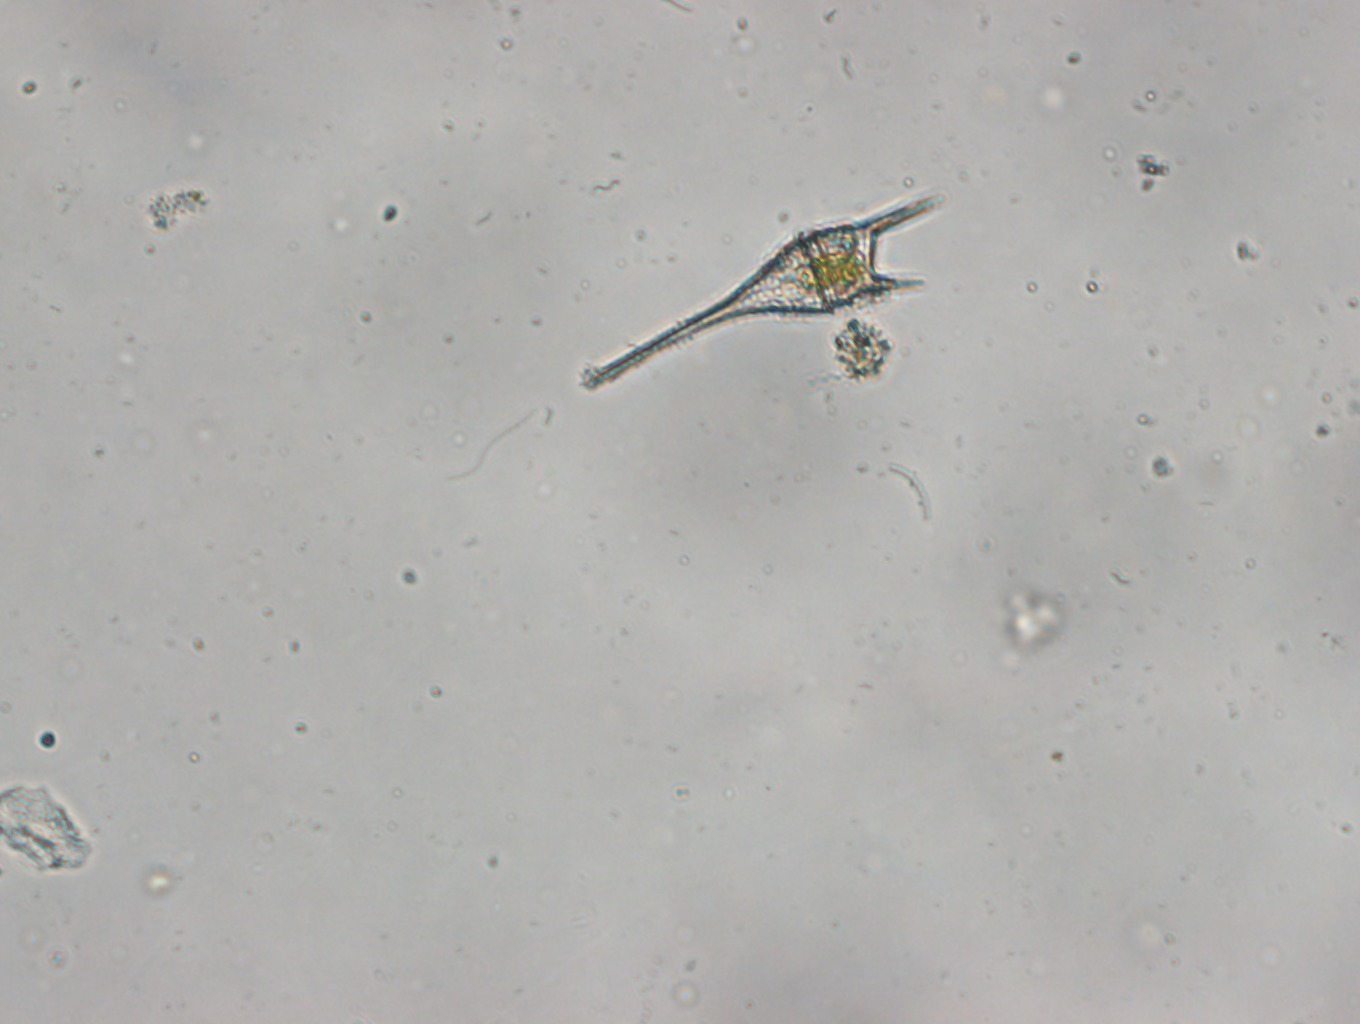ceratium furca: (573, 189, 953, 392)
